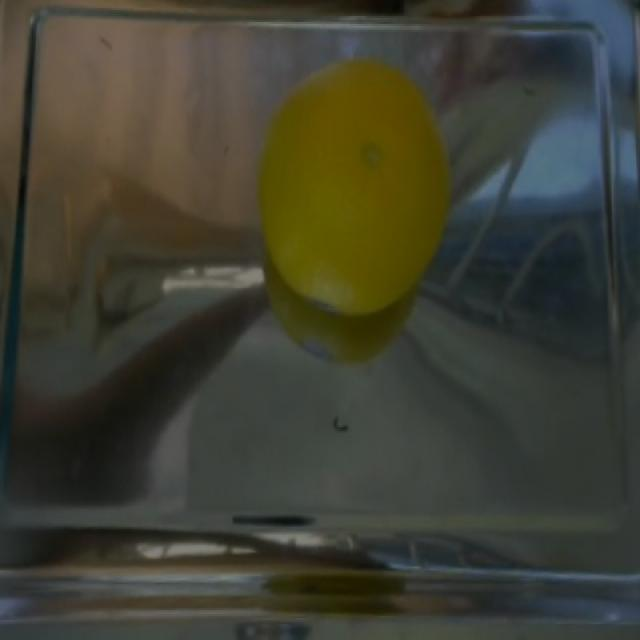Fruit: (247, 44, 460, 338)
